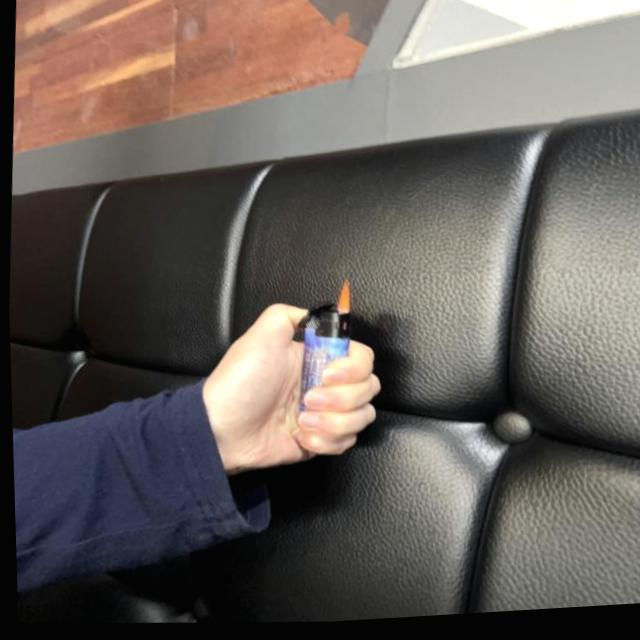Fire: (332, 283, 349, 318)
